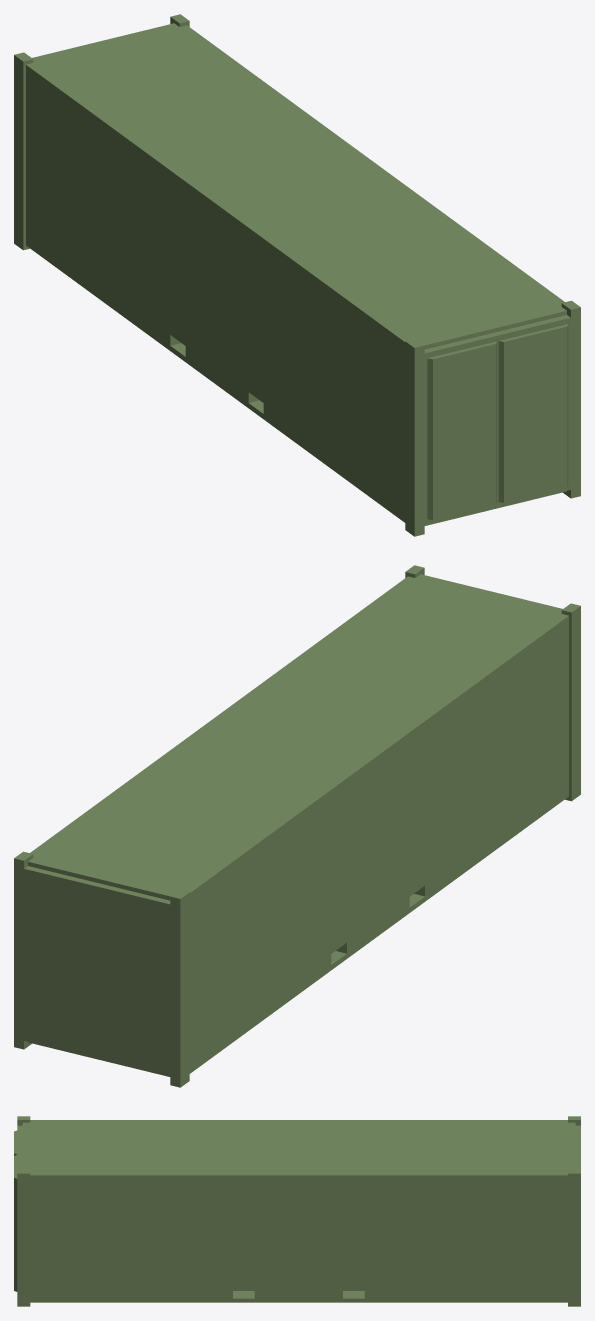
Rendered from ship_container1.fbx.
3 renders of one model, top to bottom at view 1: azimuth 30°, elevation 25°; view 2: azimuth 150°, elevation 25°; view 3: azimuth 270°, elevation 25°, orthographic. The views are drawn at different scales.
Parts seen in each view (by area): view 1: ship_container1; view 2: ship_container1; view 3: ship_container1.
Part boxes in pixels (x1,y1,x2,y2): ship_container1: [14, 14, 580, 536]; ship_container1: [14, 565, 580, 1087]; ship_container1: [14, 1116, 580, 1306].
Size of the model in its own units: 240 by 260 by 1006.
